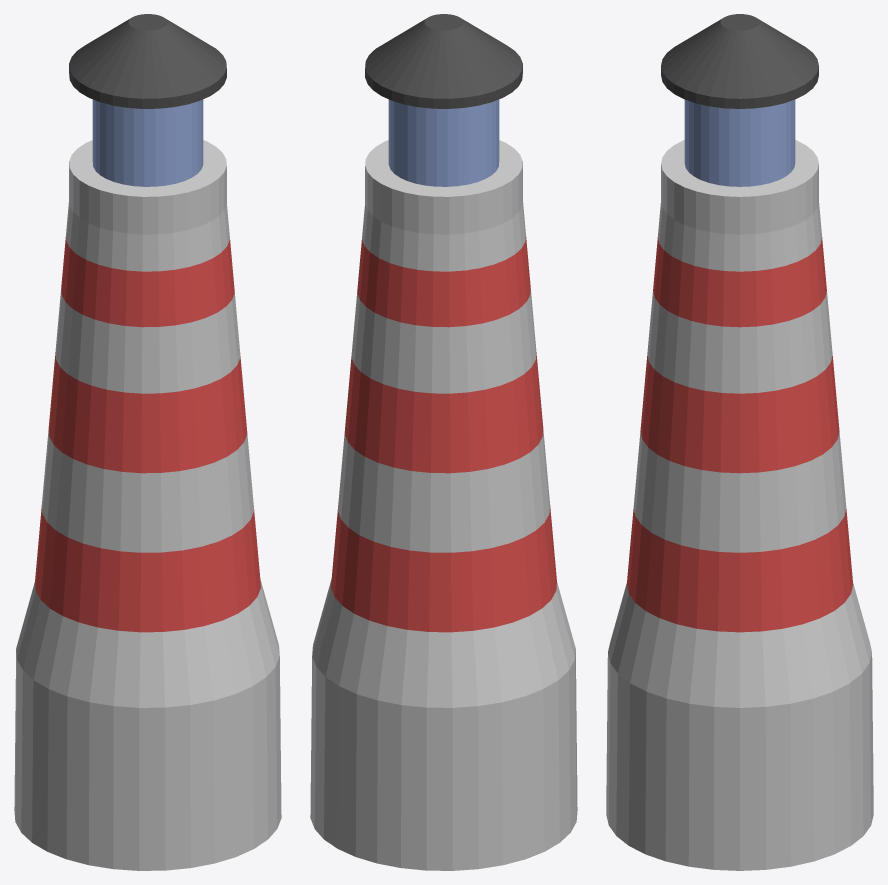
The model's file is Lighthouse.fbx.
3 views of the same model, side by side, from view 1: azimuth 30°, elevation 25°; view 2: azimuth 150°, elevation 25°; view 3: azimuth 270°, elevation 25° (orthographic).
Parts seen in each view (by area): view 1: LighthouseBase, LighthouseRoof, LighthouseWindows; view 2: LighthouseBase, LighthouseRoof, LighthouseWindows; view 3: LighthouseBase, LighthouseRoof, LighthouseWindows.
Part boxes in pixels (x1=…): LighthouseBase: x1=14, y1=140, x2=281, y2=870; LighthouseRoof: x1=69, y1=14, x2=226, y2=108; LighthouseWindows: x1=92, y1=99, x2=203, y2=186; LighthouseBase: x1=310, y1=140, x2=577, y2=870; LighthouseRoof: x1=365, y1=14, x2=522, y2=108; LighthouseWindows: x1=388, y1=99, x2=499, y2=186; LighthouseBase: x1=606, y1=140, x2=873, y2=870; LighthouseRoof: x1=661, y1=14, x2=818, y2=108; LighthouseWindows: x1=684, y1=99, x2=795, y2=186.
Size of the model in its own units: 200 by 653 by 200.
